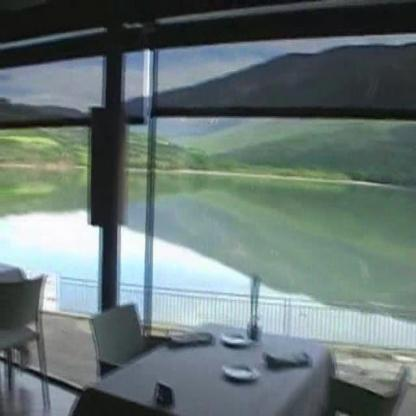other: (24, 208, 128, 257)
